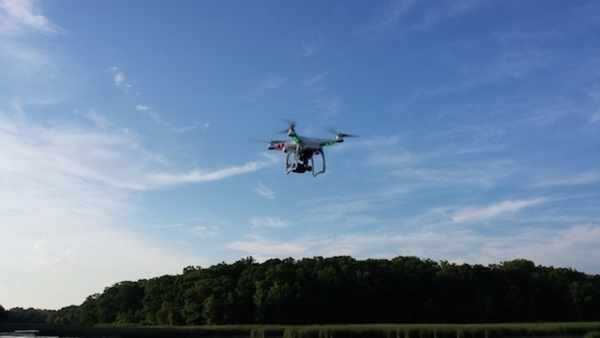drone: (258, 117, 357, 180)
